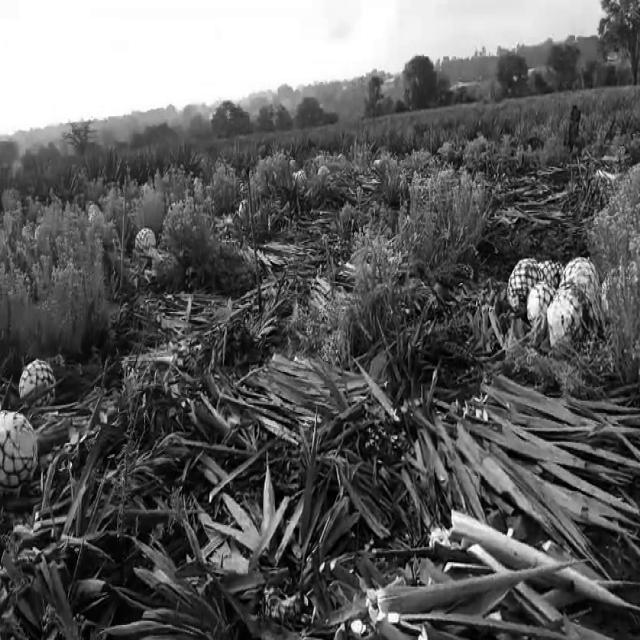agave: (546, 285, 589, 360), (0, 410, 38, 494), (507, 252, 542, 315), (16, 358, 56, 410), (563, 252, 599, 306), (523, 274, 552, 330), (536, 256, 562, 296), (133, 222, 157, 255)
